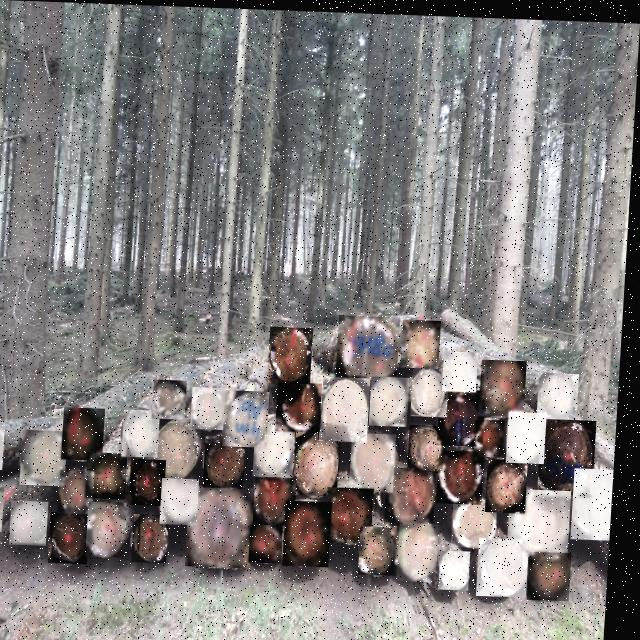wood-log: (192, 484, 261, 566), (543, 414, 601, 493), (513, 485, 577, 553), (340, 312, 404, 376), (289, 498, 338, 565), (325, 375, 375, 440), (299, 428, 348, 494), (483, 534, 536, 593), (390, 465, 442, 524), (577, 463, 619, 536), (157, 419, 205, 481), (25, 429, 73, 486), (332, 484, 380, 541), (443, 386, 491, 443), (355, 430, 401, 489), (484, 356, 531, 413), (228, 388, 274, 445), (272, 324, 317, 382), (442, 447, 490, 501), (404, 519, 445, 579), (457, 493, 504, 544), (92, 500, 133, 557), (67, 406, 110, 460), (281, 380, 327, 430), (258, 422, 301, 475), (492, 455, 534, 509), (209, 434, 251, 487), (534, 547, 578, 597), (259, 472, 302, 523), (55, 512, 96, 565), (512, 407, 552, 460), (374, 373, 415, 424), (541, 368, 584, 415), (365, 523, 406, 572), (91, 451, 133, 498), (405, 316, 445, 365), (415, 364, 454, 414), (413, 422, 452, 469), (166, 477, 205, 524), (127, 408, 165, 456), (138, 513, 175, 562), (16, 501, 55, 546), (135, 458, 172, 505), (64, 470, 100, 514), (195, 385, 230, 428), (447, 348, 482, 388), (157, 378, 192, 418), (255, 522, 289, 561), (446, 547, 478, 587), (479, 416, 513, 453), (0, 422, 10, 470), (0, 487, 10, 532), (0, 192, 0, 256)
